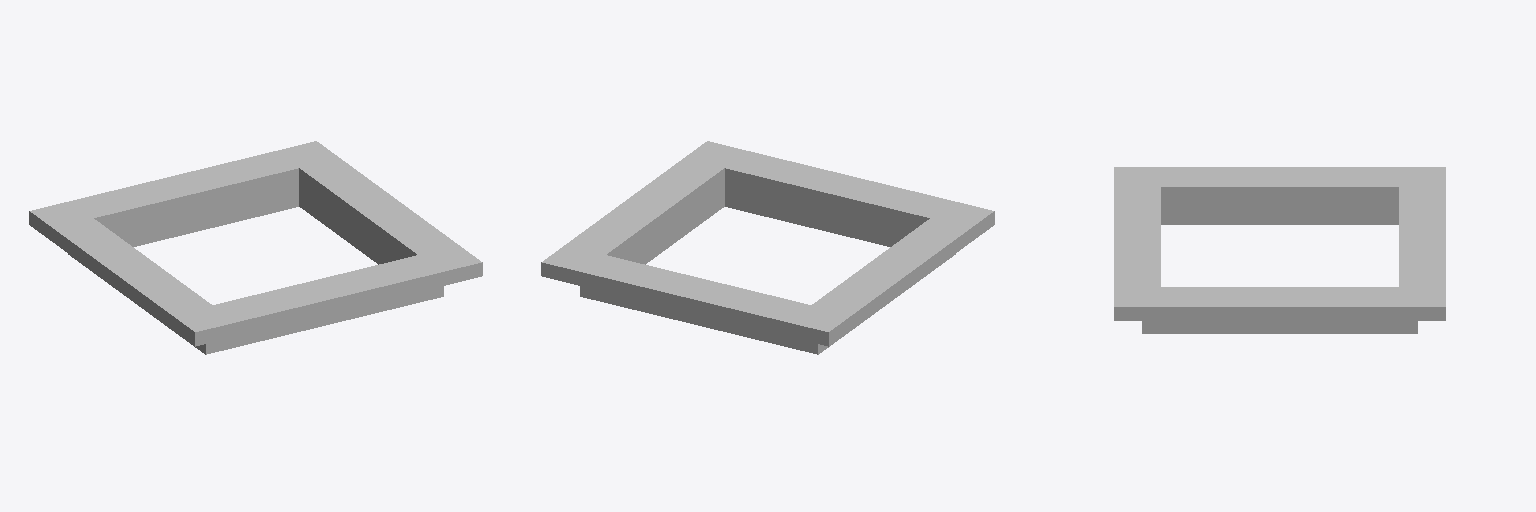
The model's file is boxsquare.obj.
The picture shows the model from 3 angles: view 1: azimuth 30°, elevation 25°; view 2: azimuth 150°, elevation 25°; view 3: azimuth 270°, elevation 25°; orthographic projection.
Parts seen in each view (by area): view 1: Cube; view 2: Cube; view 3: Cube.
Part boxes in pixels (bbox=[...]): Cube: bbox=[29, 141, 482, 354]; Cube: bbox=[541, 141, 994, 354]; Cube: bbox=[1114, 167, 1445, 333].
Bounding box in the file's own units: 101 × 12.93 × 101.